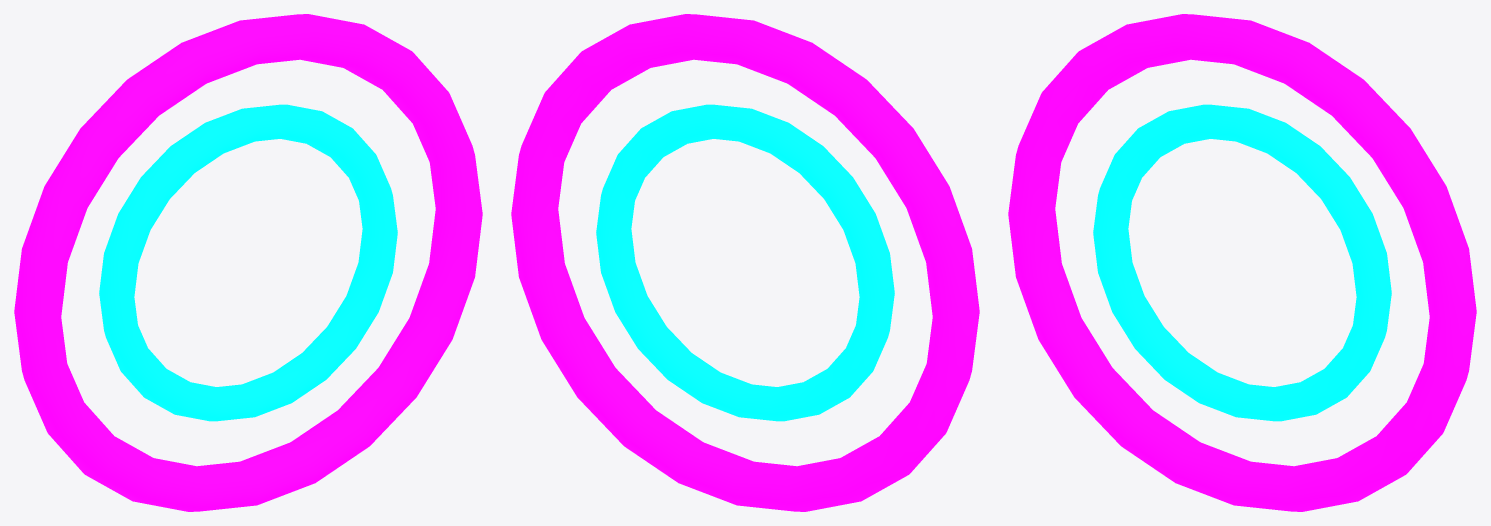
The model's file is deco_neon_1.glb.
3 views of the same model, side by side, from view 1: azimuth 30°, elevation 25°; view 2: azimuth 150°, elevation 25°; view 3: azimuth 330°, elevation 25° (orthographic).
Parts seen in each view (by area): view 1: deco_neon_1; view 2: deco_neon_1; view 3: deco_neon_1.
Boxes of the visible parts, <box> form: deco_neon_1: <box>14,14,482,511</box>; deco_neon_1: <box>511,14,979,511</box>; deco_neon_1: <box>1008,14,1476,511</box>.
Bounding box in the file's own units: 8.8 × 8.8 × 0.8.
